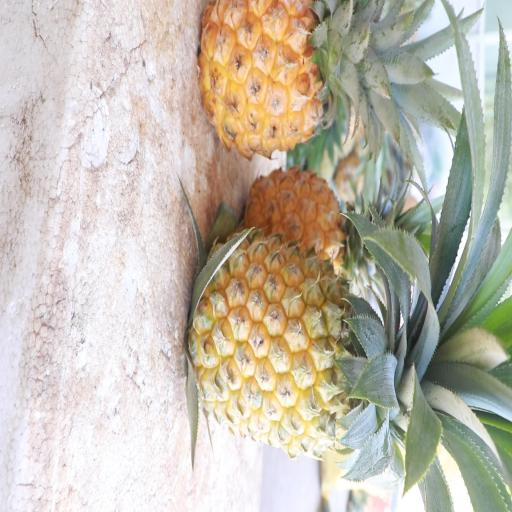Pineapple - v8 v1: (185, 223, 440, 461), (195, 0, 388, 165)
